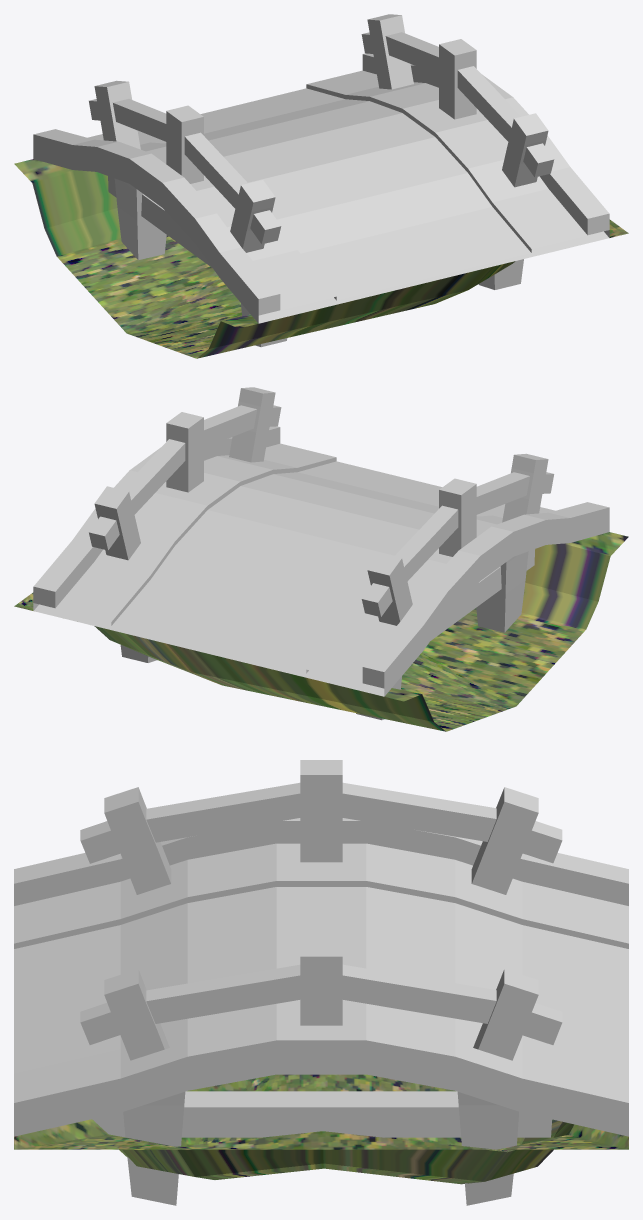
File: Mesh_BridgeTileEndCap.fbx
3 renders of one model, top to bottom at view 1: azimuth 30°, elevation 25°; view 2: azimuth 150°, elevation 25°; view 3: azimuth 270°, elevation 25°, orthographic. The views are drawn at different scales.
Visible parts, largest first — view 1: BridgeTileEndCap; view 2: BridgeTileEndCap; view 3: BridgeTileEndCap.
Part boxes in pixels (x1,y1,x2,y2): BridgeTileEndCap: (14,14,628,358); BridgeTileEndCap: (14,387,628,731); BridgeTileEndCap: (14,760,628,1205).
Size of the model in its own units: 10000 by 5033 by 10000.
